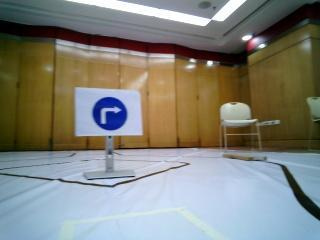right: (77, 85, 138, 135)
